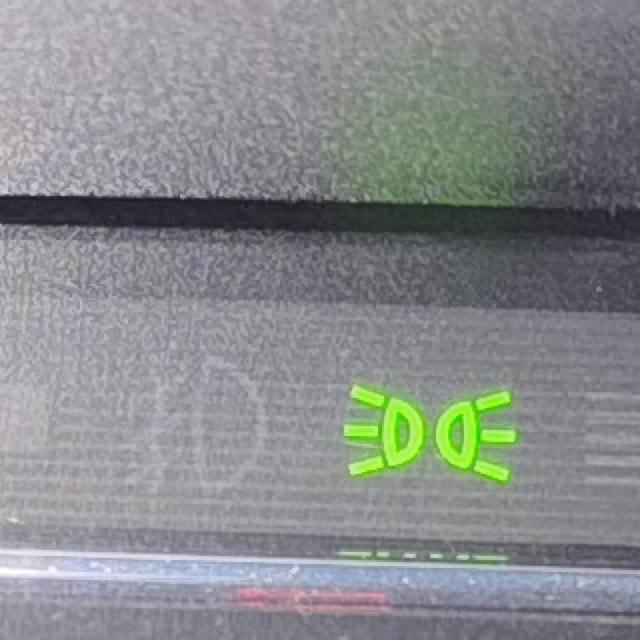Parking Light On: (340, 385, 518, 484)
